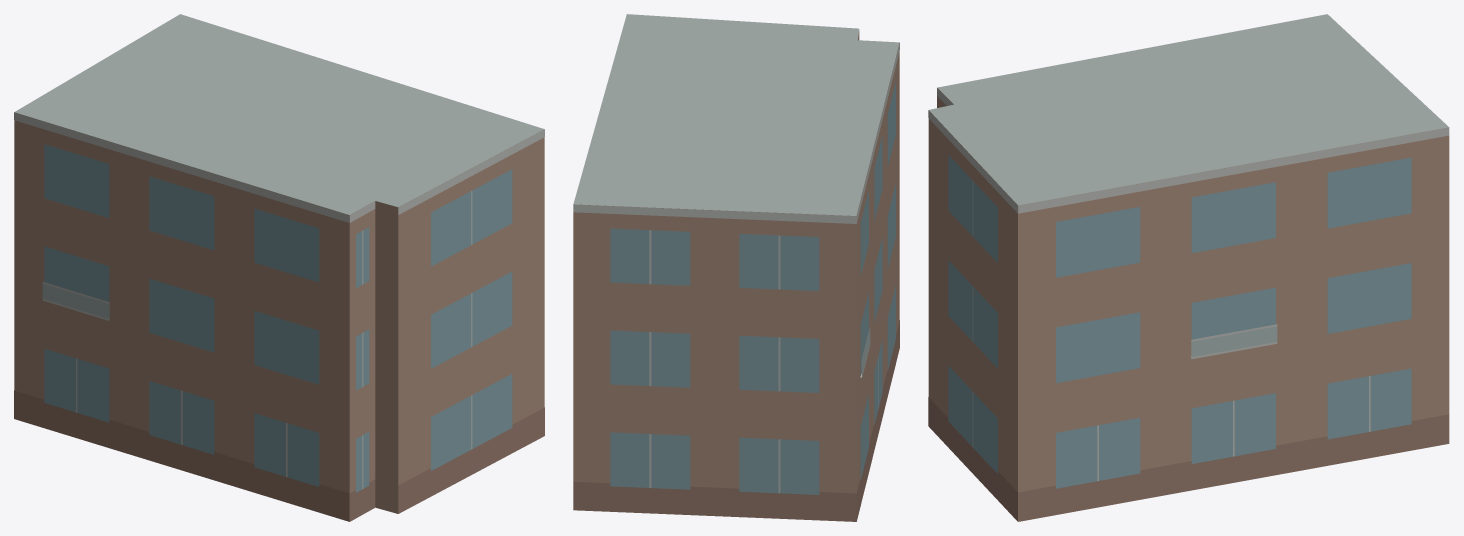
File: survey-upis-32696987.glb
3 renders of one model, left to right at view 1: azimuth 30°, elevation 25°; view 2: azimuth 150°, elevation 25°; view 3: azimuth 270°, elevation 25°, orthographic. The views are drawn at different scales.
Parts seen in each view (by area): view 1: survey-upis-32696987.tmp; view 2: survey-upis-32696987.tmp; view 3: survey-upis-32696987.tmp.
Boxes of the visible parts, x1,y1,x2,y2 form: survey-upis-32696987.tmp: [14, 14, 544, 521]; survey-upis-32696987.tmp: [573, 14, 899, 521]; survey-upis-32696987.tmp: [928, 14, 1449, 521].
Bounding box in the file's own units: 12.21 × 9.4 × 14.03.
